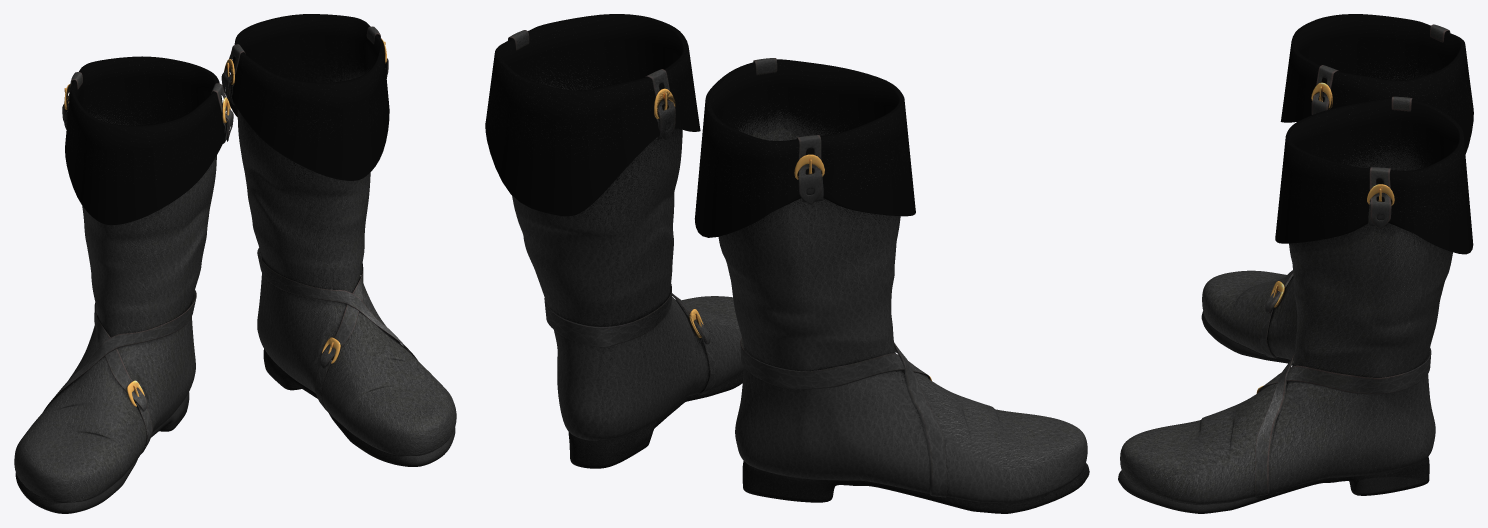
File: book.fbx
3 views of the same model, side by side, from view 1: azimuth 30°, elevation 25°; view 2: azimuth 150°, elevation 25°; view 3: azimuth 270°, elevation 25° (orthographic). The views are drawn at different scales.
Visible parts, largest first — view 1: Object029, Object031, Object030, Object028, Object027; view 2: Object029, Object028, Object031, Object030, Object027; view 3: Object031, Object030, Object029, Object027, Object028.
Part boxes in pixels (x1,y1,x2,y2): Object029: (14,56,225,502); Object031: (229,14,456,455); Object030: (62,72,455,466); Object028: (15,137,225,513); Object027: (63,38,417,412); Object029: (695,59,1087,503); Object028: (694,192,1089,513); Object031: (485,14,741,337); Object030: (485,58,821,468); Object027: (544,69,931,395); Object031: (1120,98,1472,504); Object030: (1118,24,1473,513); Object029: (1202,14,1473,343); Object027: (1255,82,1431,496); Object028: (1201,108,1473,365).
Bounding box in the file's own units: 694 × 534 × 478.
Materials: 5 (5 with a texture image).
